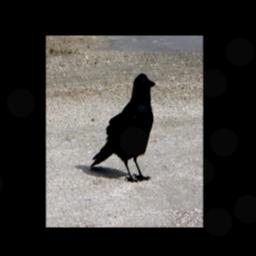Crow: (88, 71, 157, 183)
